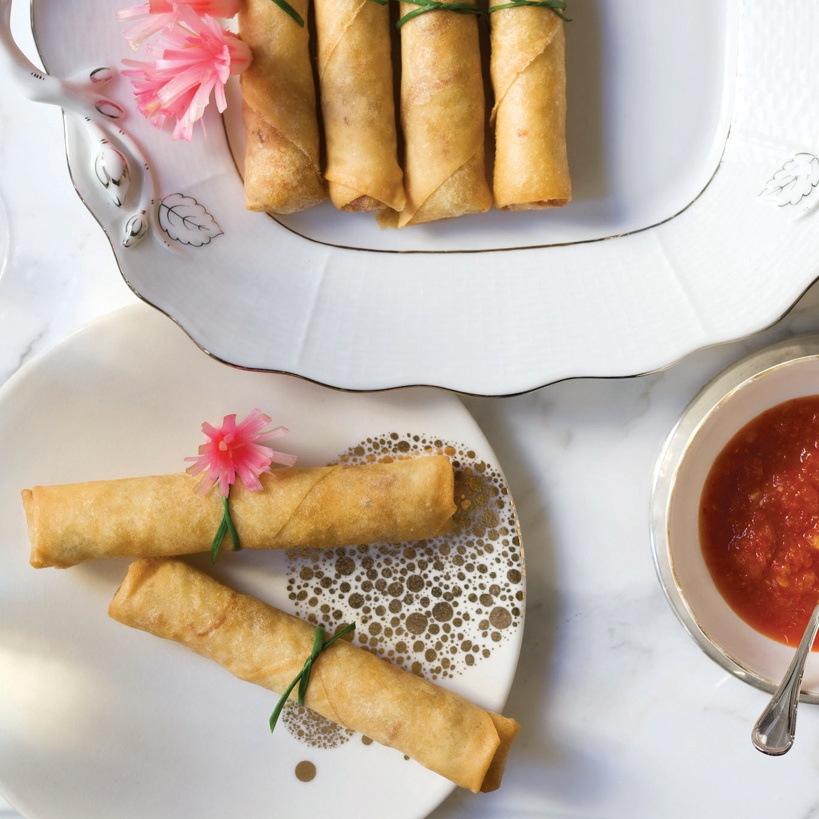background: (24, 436, 665, 819), (302, 0, 733, 292)
